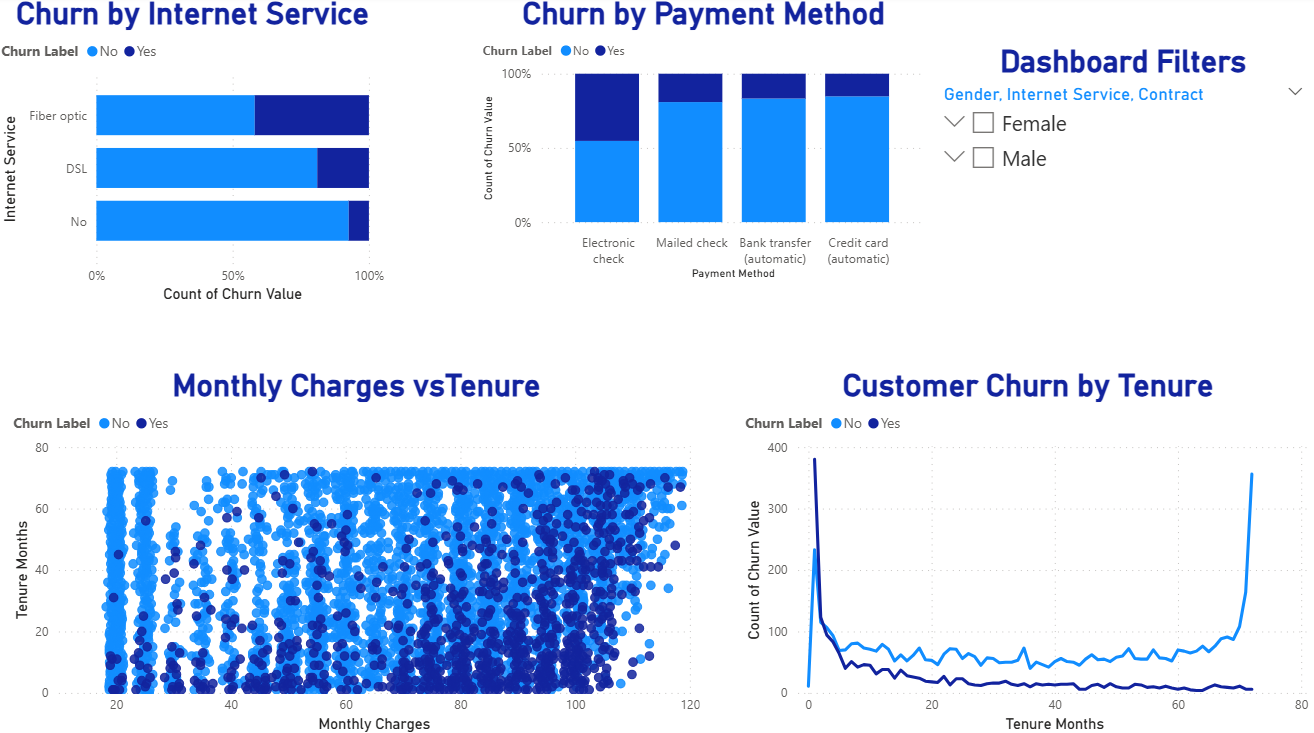

Layout of this report page (visuals, bound fields, positions):
{"tool":"powerbi","page":{"name":"Churn Analysis","canvas":[1280,720],"ordinal":1},"visuals":[{"type":"hundredPercentStackedBarChart","fields":{"Y":["CountNonNull(Telco_customer_churn(Telco_Churn).Churn Value)"],"Category":["Telco_customer_churn(Telco_Churn).Internet Service"],"Series":["Telco_customer_churn(Telco_Churn).Churn Label"]},"box":[0,0,381.3,302.6],"z":0},{"type":"hundredPercentStackedColumnChart","fields":{"Y":["CountNonNull(Telco_customer_churn(Telco_Churn).Churn Value)"],"Category":["Telco_customer_churn(Telco_Churn).Payment Method"],"Series":["Telco_customer_churn(Telco_Churn).Churn Label"]},"box":[467.5,0,438.8,279.9],"z":1000},{"type":"lineChart","fields":{"Y2":["CountNonNull(Telco_customer_churn(Telco_Churn).Churn Label)"],"Y":["CountNonNull(Telco_customer_churn(Telco_Churn).Churn Value)"],"Category":["Telco_customer_churn(Telco_Churn).Tenure Months"]},"box":[667.2,360.1,612.8,360.1],"z":2000},{"type":"scatterChart","fields":{"X":["Telco_customer_churn(Telco_Churn).Monthly Charges"],"Y":["CountNonNull(Telco_customer_churn(Telco_Churn).Tenure Months)"]},"box":[10.6,360.1,597.6,360.1],"z":3000},{"type":"slicer","fields":{"Values":["Telco_customer_churn(Telco_Churn).Gender","Telco_customer_churn(Telco_Churn).Internet Service","Telco_customer_churn(Telco_Churn).Contract"]},"box":[1000.1,0,279.9,279.9],"z":4000}]}

Visuals, with their boxes in screenshot pixels (x1, y1, x2, y2), scaled from the page's 1280x720 canvas onto the 1314x733 screenshot:
hundredPercentStackedBarChart - CountNonNull(Telco_customer_churn(Telco_Churn).Churn Value) x Telco_customer_churn(Telco_Churn).Internet Service: (x1=0, y1=0, x2=391, y2=308)
hundredPercentStackedColumnChart - CountNonNull(Telco_customer_churn(Telco_Churn).Churn Value) x Telco_customer_churn(Telco_Churn).Payment Method: (x1=480, y1=0, x2=930, y2=285)
lineChart - CountNonNull(Telco_customer_churn(Telco_Churn).Churn Label) x CountNonNull(Telco_customer_churn(Telco_Churn).Churn Value): (x1=685, y1=367, x2=1313, y2=732)
scatterChart - Telco_customer_churn(Telco_Churn).Monthly Charges x CountNonNull(Telco_customer_churn(Telco_Churn).Tenure Months): (x1=11, y1=367, x2=624, y2=732)
slicer - Telco_customer_churn(Telco_Churn).Gender x Telco_customer_churn(Telco_Churn).Internet Service: (x1=1027, y1=0, x2=1313, y2=285)
